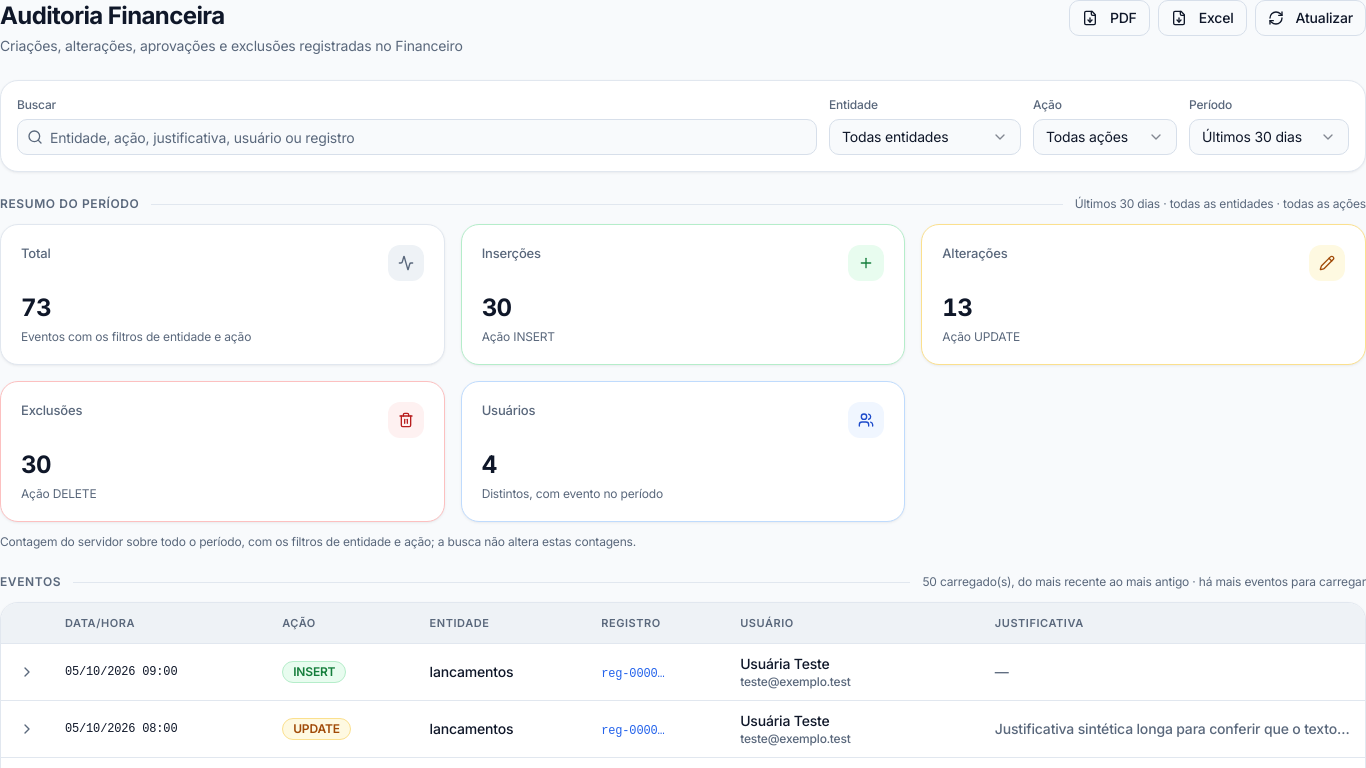
Test case: Auditoria Financeira (V2) › detalhe por botão nomeado com aria-expanded: registro inteiro, justificativa e diff Antes/Depois
Expected: the text "50 carregado(s)" is shown, top-left (922, 574), bottom-right (1365, 589)
Click the button named "Ver detalhes: UPDATE em lancamentos": (27, 728) top-left (13, 714), bottom-right (41, 742)
(page scrolled)
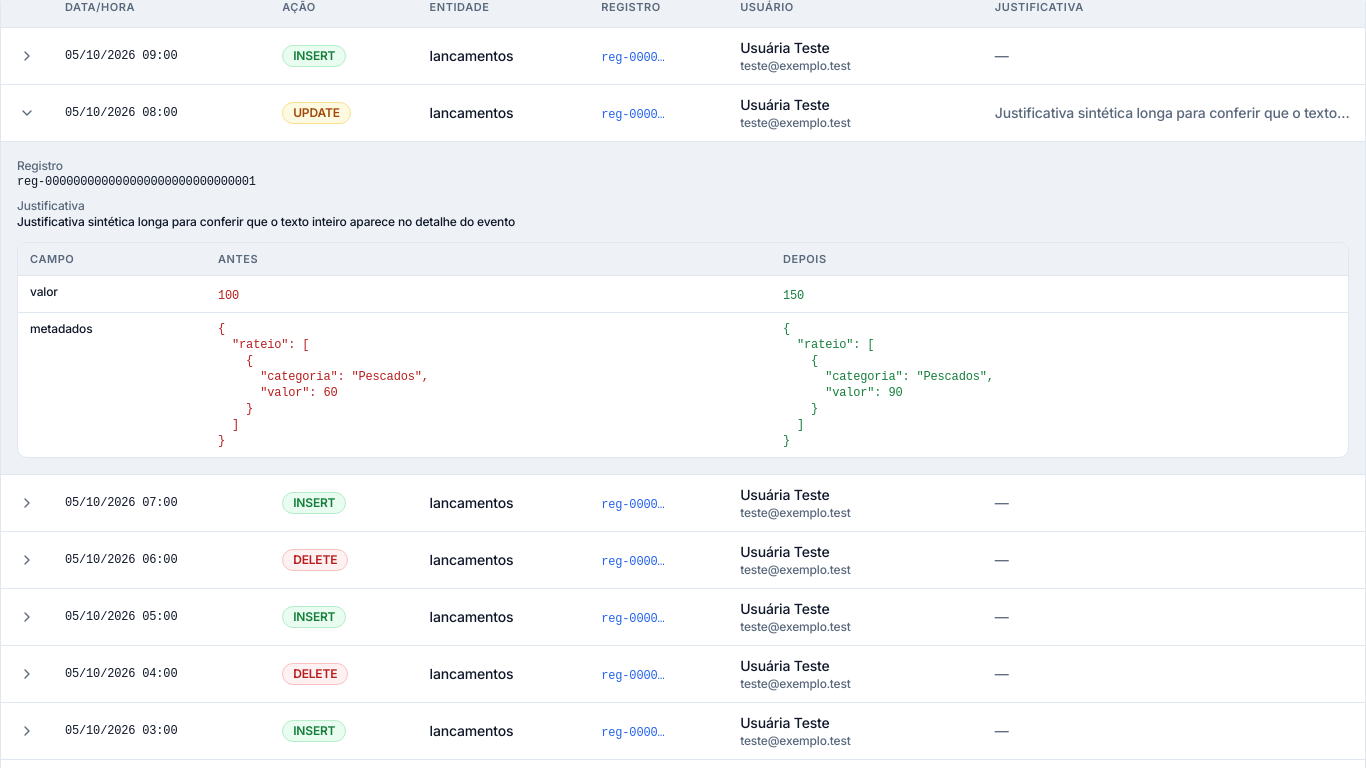
Expected: the button named "Ver detalhes: UPDATE em lancamentos" is expanded, top-left (13, 98), bottom-right (41, 126)
Expected: the text "Justificativa sintética longa para conferir que o texto inteiro aparece no detalhe do evento" is shown, top-left (17, 214), bottom-right (515, 228)
Expected: the text "100" is shown, top-left (218, 288), bottom-right (239, 302)
